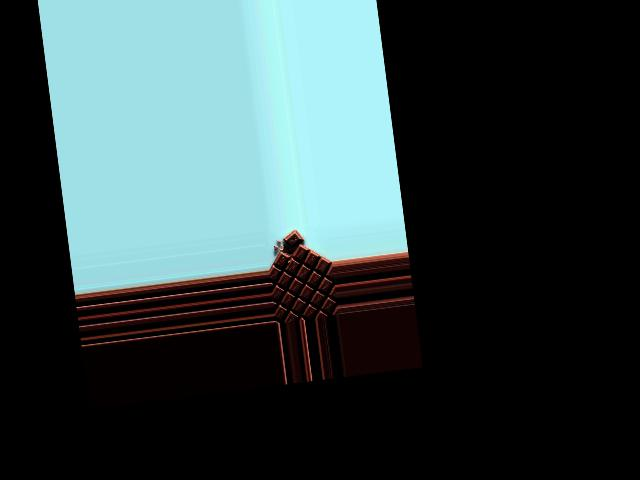chocolate: (266, 235, 336, 324)
